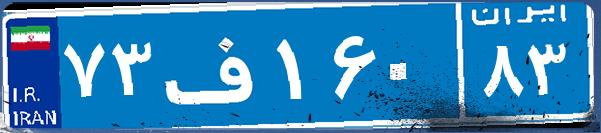0: (385, 28, 445, 110)
1: (273, 28, 330, 110)
3: (110, 28, 158, 105), (525, 38, 570, 115)
6: (330, 28, 385, 110)
7: (57, 26, 110, 107)
8: (475, 38, 525, 113)
ف: (158, 15, 273, 115)
